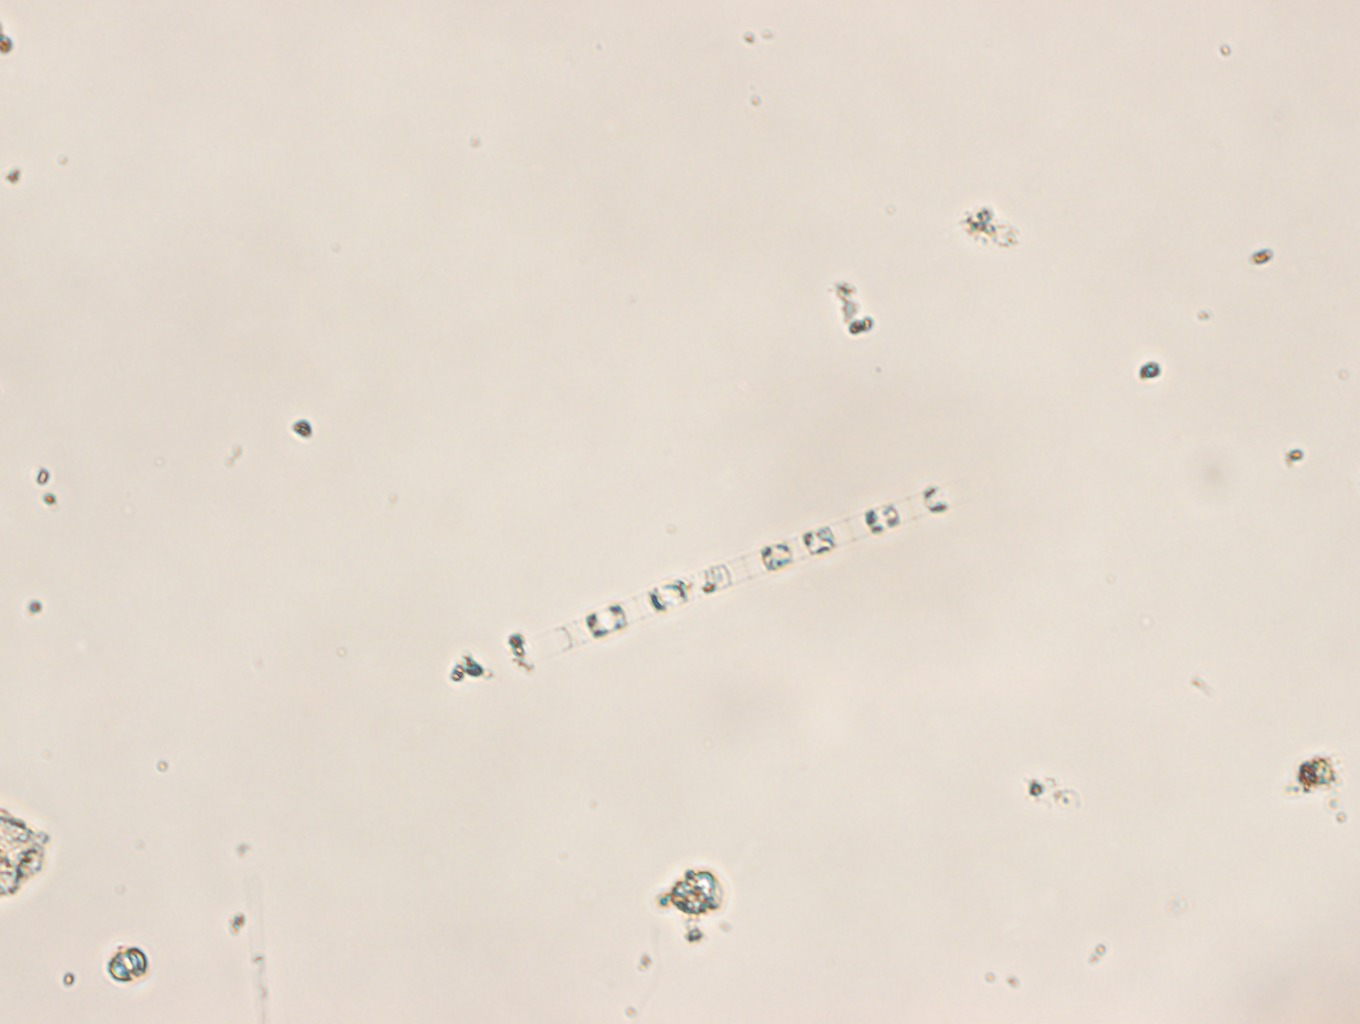skeletonema: (540, 486, 957, 658)
